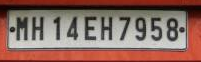1: (53, 16, 63, 41)
4: (66, 16, 80, 41)
5: (149, 17, 163, 41)
7: (117, 16, 131, 41)
8: (166, 17, 180, 42)
9: (134, 17, 148, 41)
E: (83, 16, 97, 41)
H: (31, 16, 45, 41), (100, 15, 113, 41)
M: (15, 16, 29, 41)
